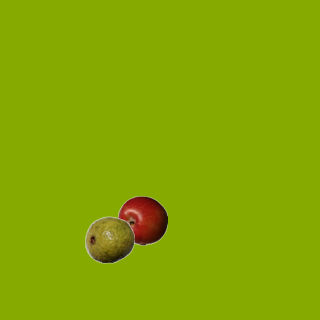Apple Braeburn: (117, 195, 167, 245)
Guava: (84, 214, 134, 264)
